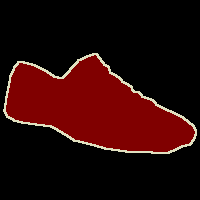shoe: (4, 53, 196, 153)
